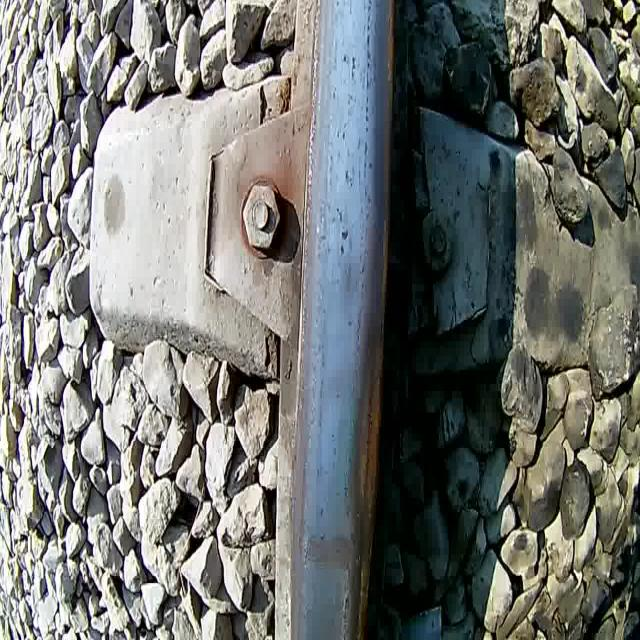Squats: (301, 529, 357, 579)
